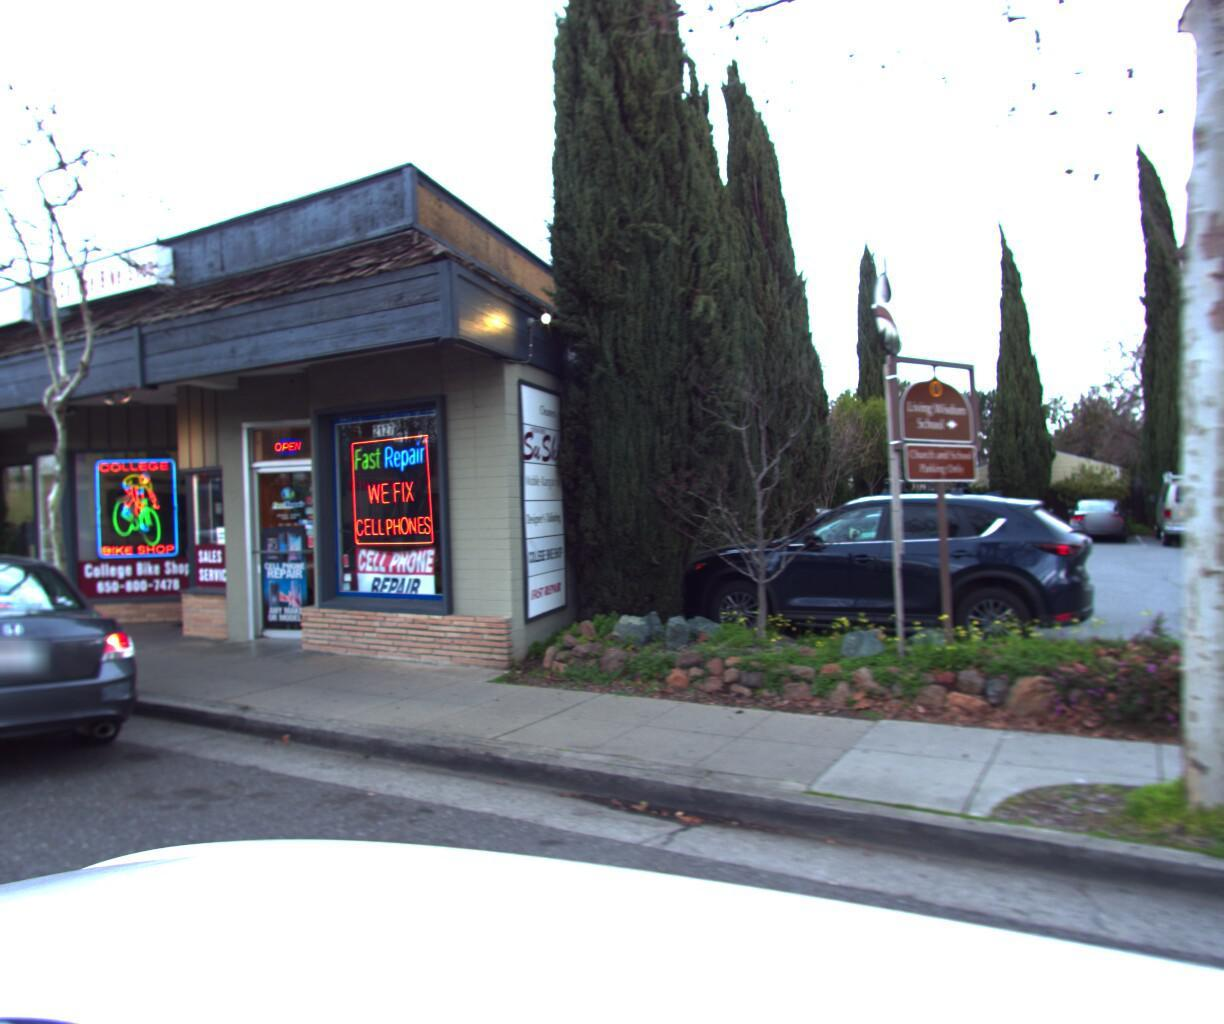car: (667, 468, 1111, 657), (0, 528, 178, 839)
